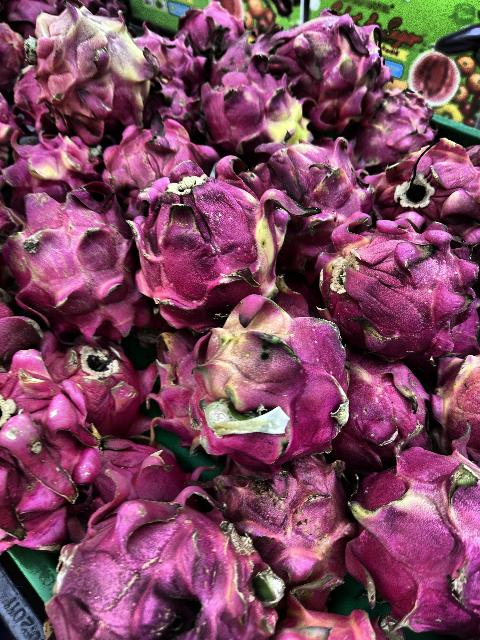buah-naga-belum-matang: (191, 286, 359, 466), (346, 449, 480, 635), (135, 164, 293, 318), (30, 10, 156, 126), (200, 57, 312, 153), (1, 125, 100, 189), (430, 344, 480, 454)
buah-naga-matang: (45, 492, 281, 640), (317, 218, 470, 356), (0, 192, 150, 332), (0, 337, 98, 548), (211, 455, 351, 585), (256, 140, 366, 252), (272, 8, 380, 122), (330, 352, 426, 462), (372, 138, 480, 232), (46, 332, 148, 420), (98, 116, 204, 184), (357, 80, 441, 164), (96, 432, 184, 498), (136, 24, 210, 88), (177, 0, 235, 52)
